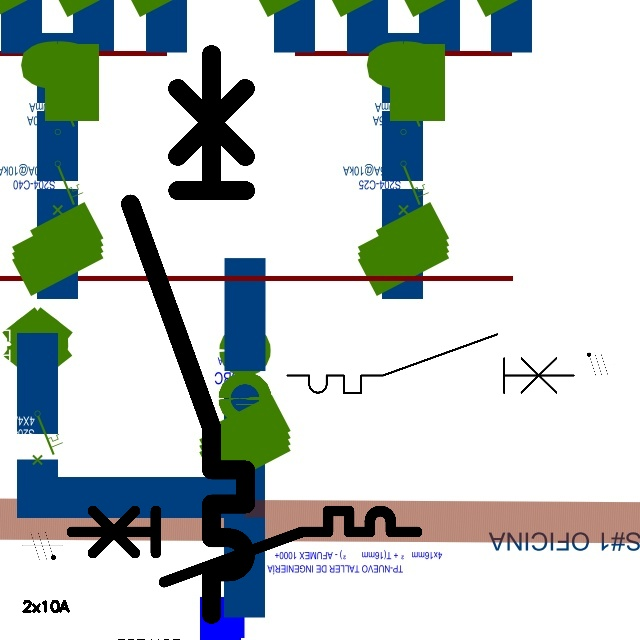interruptor_termomagnetico: (116, 40, 260, 629), (63, 502, 426, 590), (280, 327, 580, 400)
